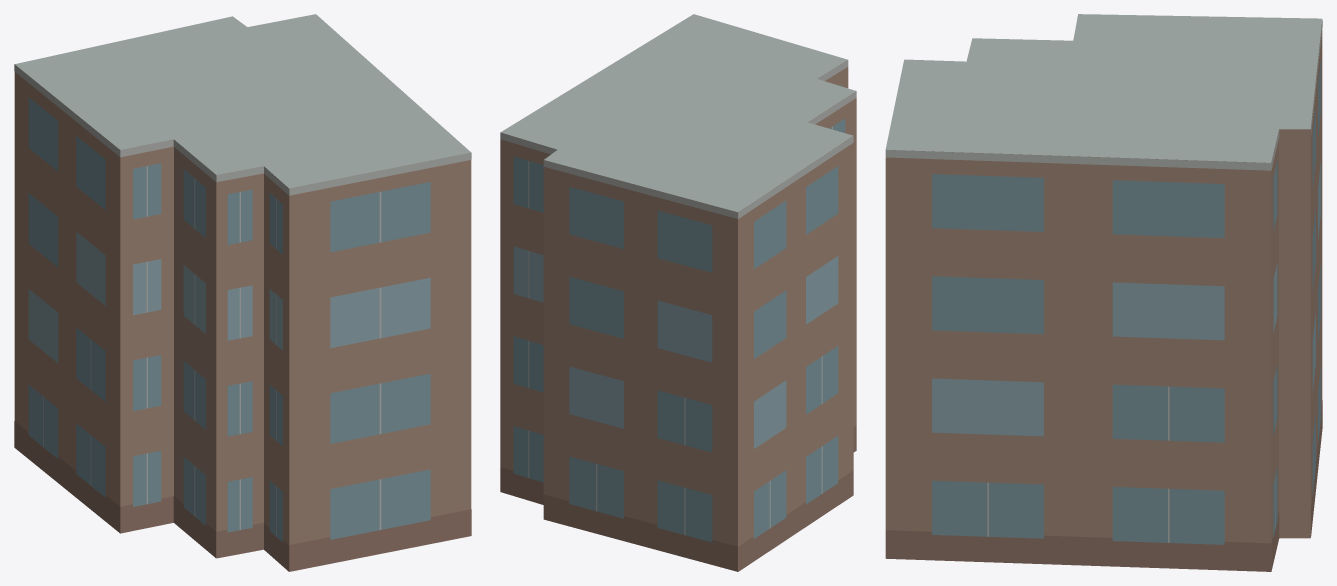
The model's file is survey-upis-32797761.glb.
3 views of the same model, side by side, from view 1: azimuth 30°, elevation 25°; view 2: azimuth 150°, elevation 25°; view 3: azimuth 270°, elevation 25° (orthographic). The views are drawn at different scales.
Parts seen in each view (by area): view 1: survey-upis-32797761.tmp; view 2: survey-upis-32797761.tmp; view 3: survey-upis-32797761.tmp.
Boxes of the visible parts, <box> form: survey-upis-32797761.tmp: <box>14,14,471,571</box>; survey-upis-32797761.tmp: <box>500,14,856,571</box>; survey-upis-32797761.tmp: <box>885,14,1322,571</box>.
Size of the model in its own units: 10.12 by 12.94 by 12.54.
